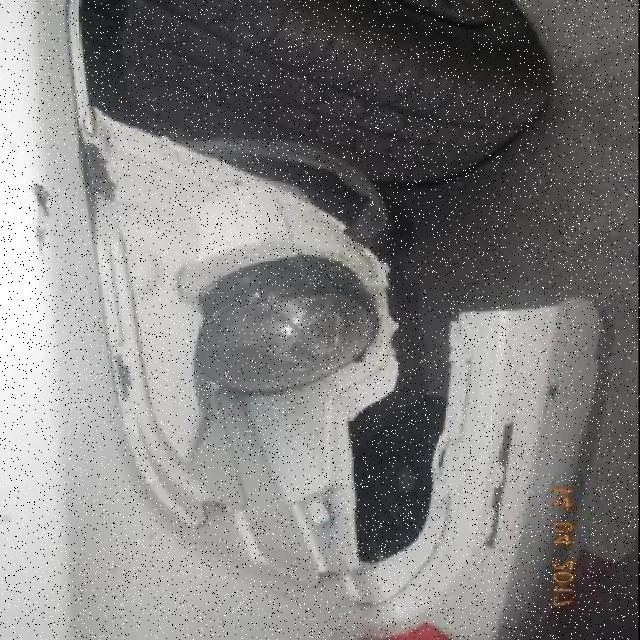damage: (79, 120, 612, 628), (23, 178, 60, 263)
